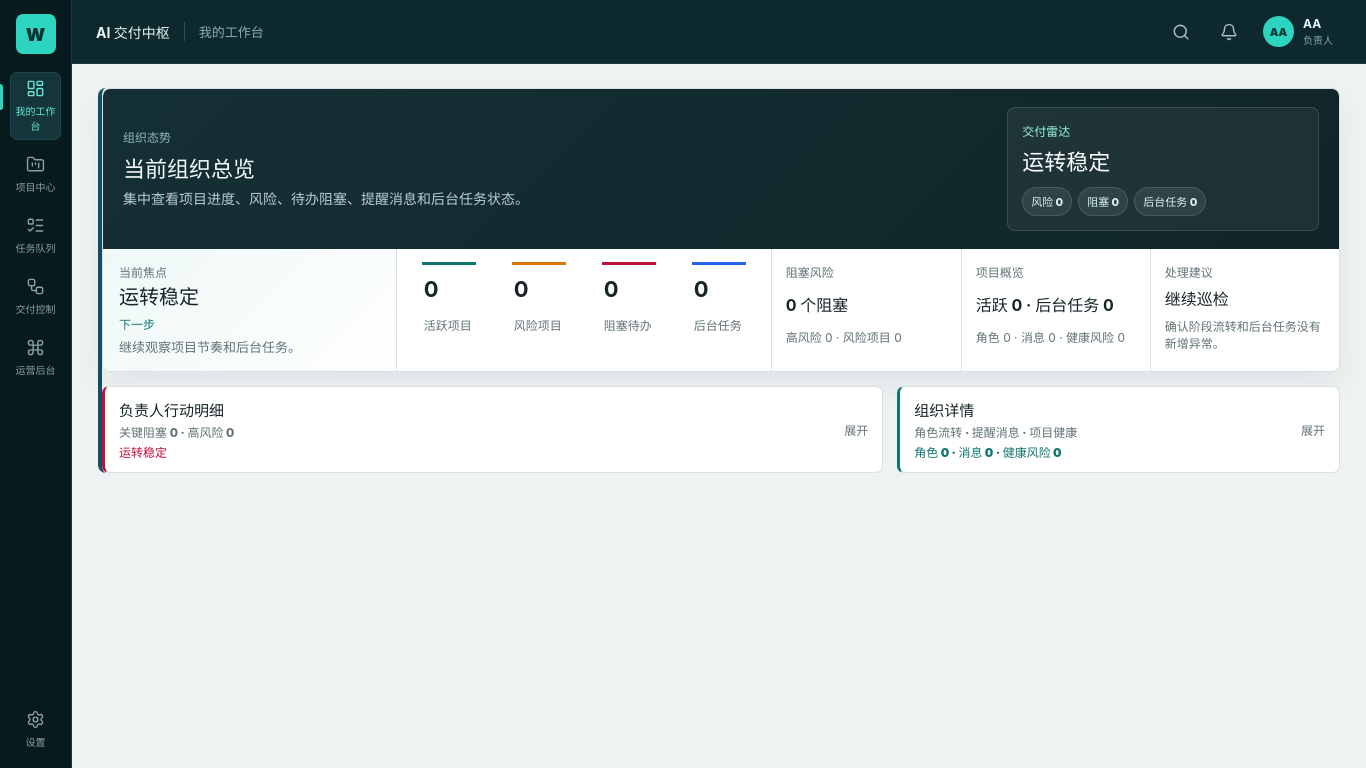
Test case: App › keeps the role inbox in the task destination
expect the element named "负责人工作台" is shown: met, box [98,88,1340,473]
expect the text "角色收件箱" is not shown: met
Click the button "任务队列" at (36, 236), box [10,209,61,262]
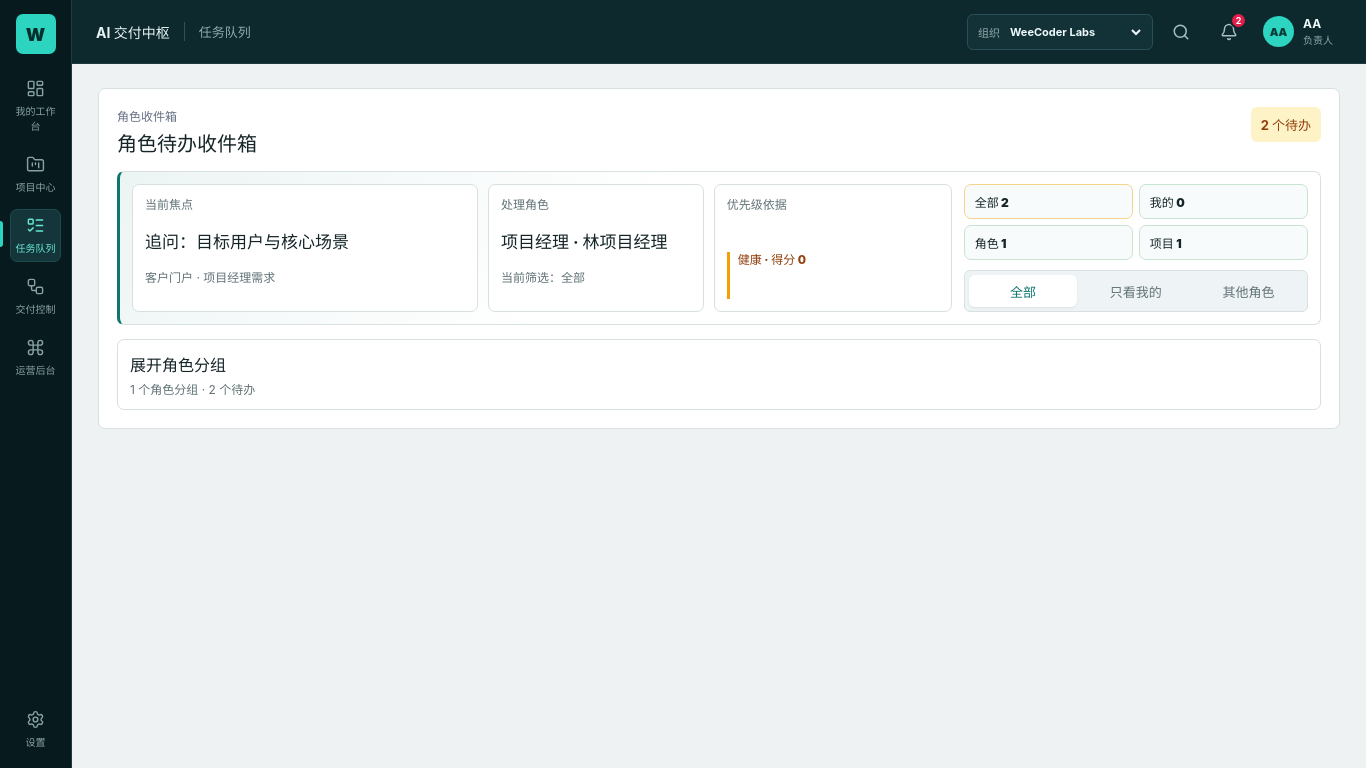
expect the text "角色收件箱" is shown: met, box [117,109,177,124]
